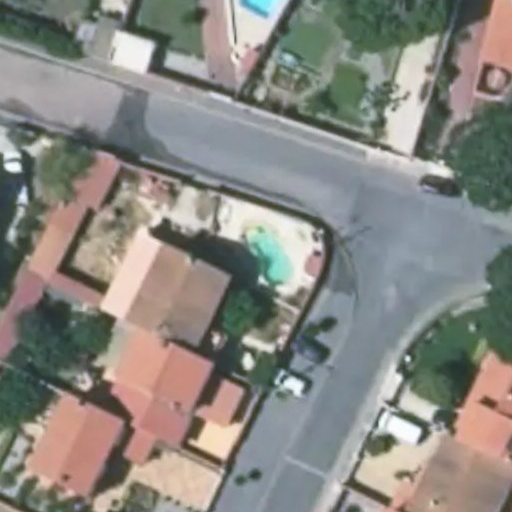pool: (219, 235, 289, 245)
